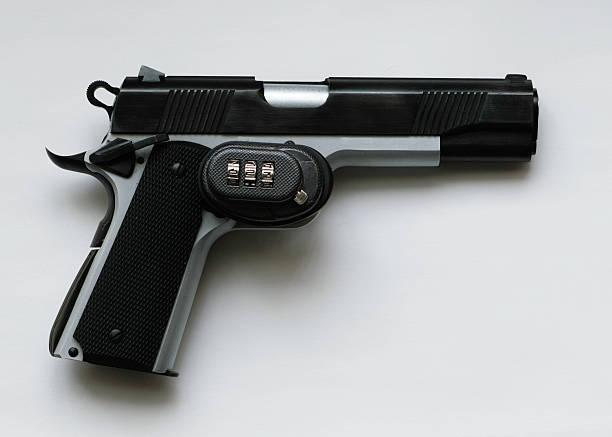weapon: (40, 57, 545, 385)
